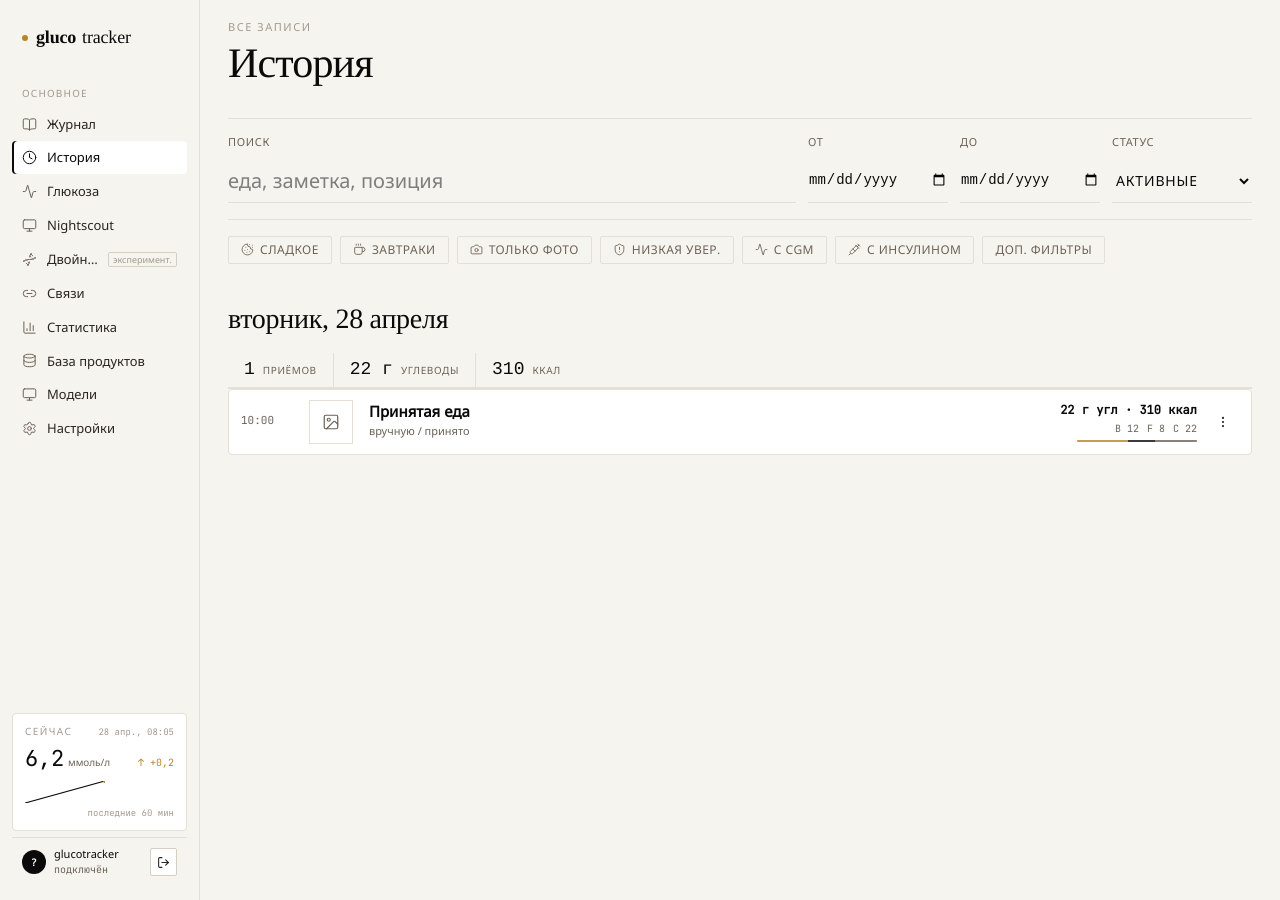
it: feed hides discarded meals by default and can show them explicitly
The width and height of the screenshot is (1280, 900).
Expected: the text "Принятая еда" is shown, [369,402,470,422]
Expected: the text "Отмененная еда по фото" is not shown
Select "отмененные" in the dropdown named "Фильтр статуса" at (1182, 181), box [1112,159,1252,203]
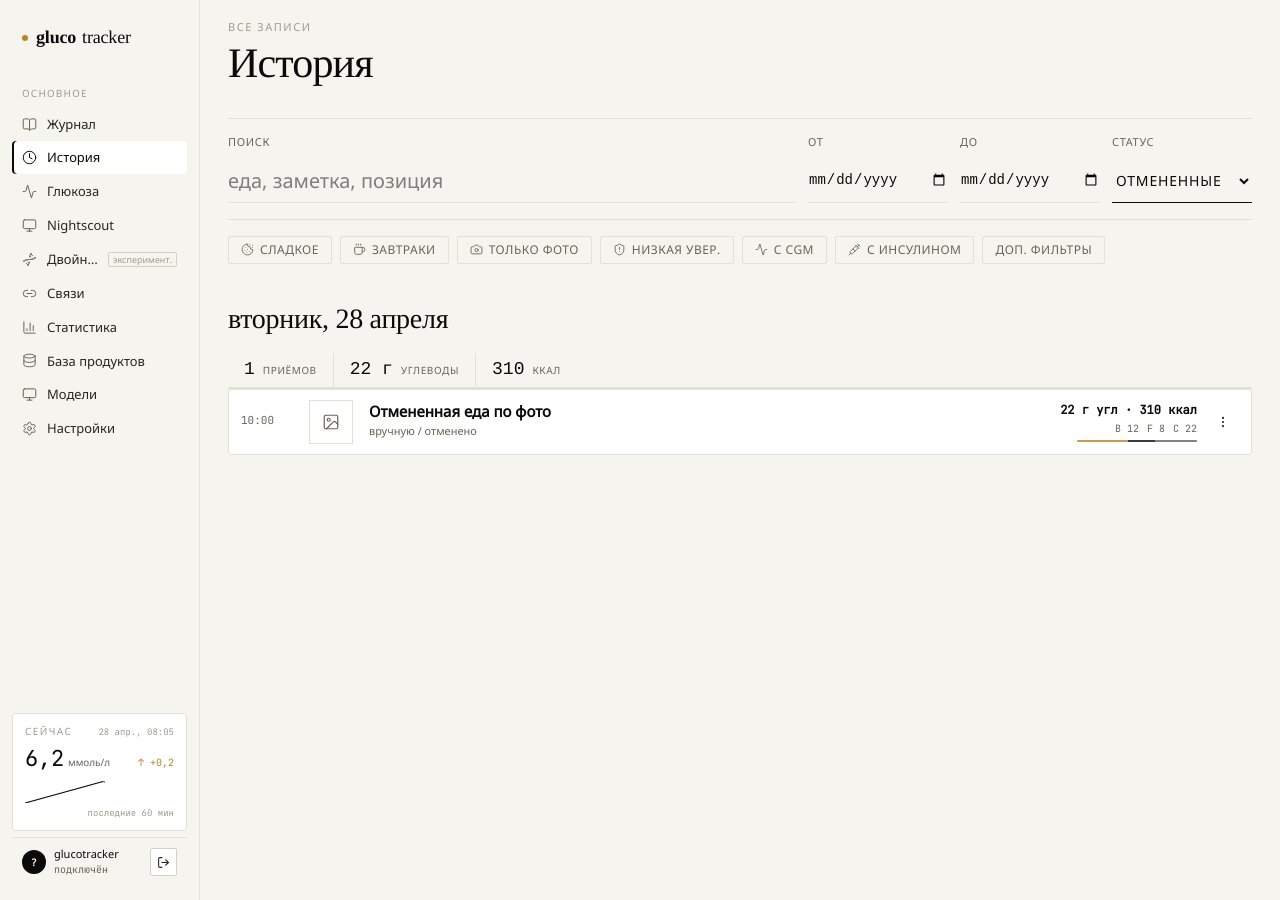
Expected: the text "Отмененная еда по фото" is shown, [369,402,551,422]
